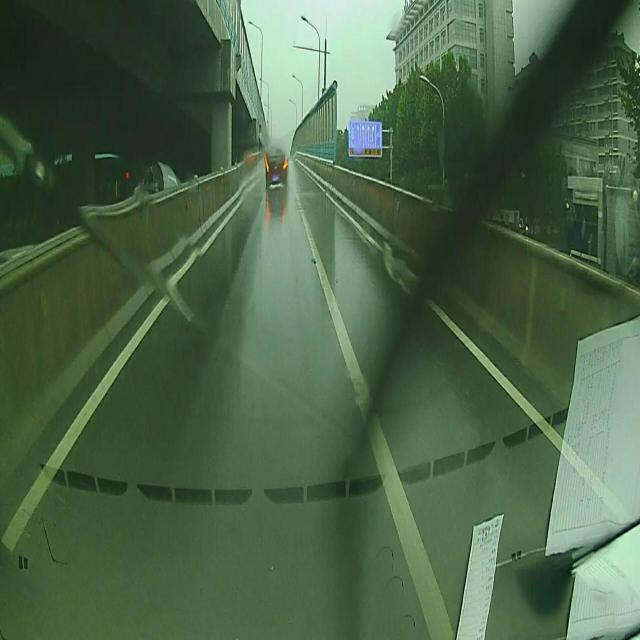car: (265, 146, 288, 193)
